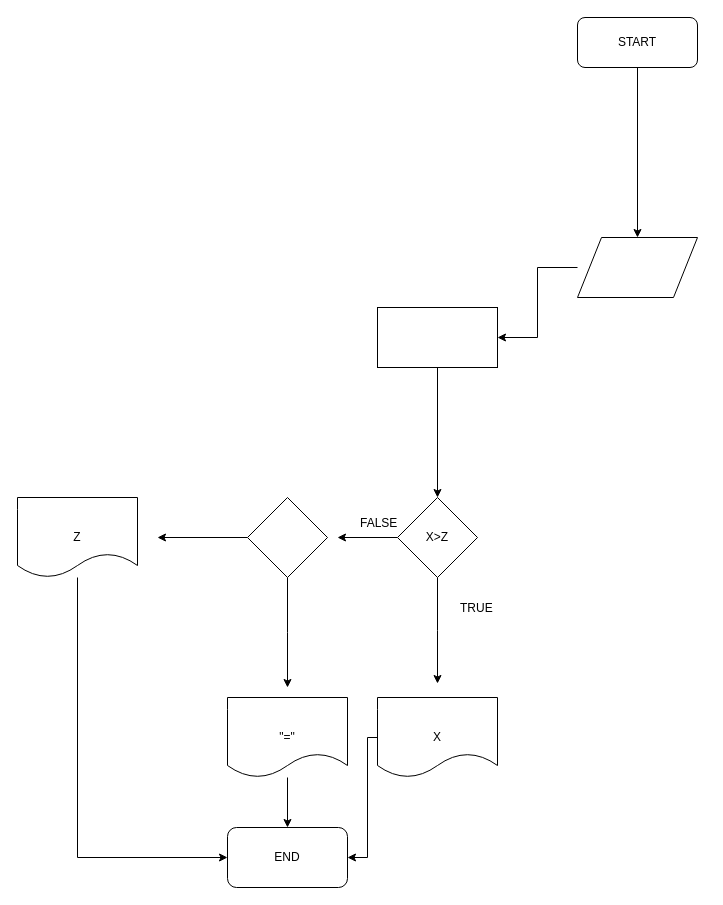
The diagram is 723 pixels wide and 905 high, and some of its shapes have lost their labels. Here are the shapes that lost their labels. From the top down, the box of each, then its label:
(576, 236, 698, 298): XYZ
(376, 306, 498, 368): Z=XYZ%10 X=XYZ/100
(246, 496, 328, 578): X=Z
